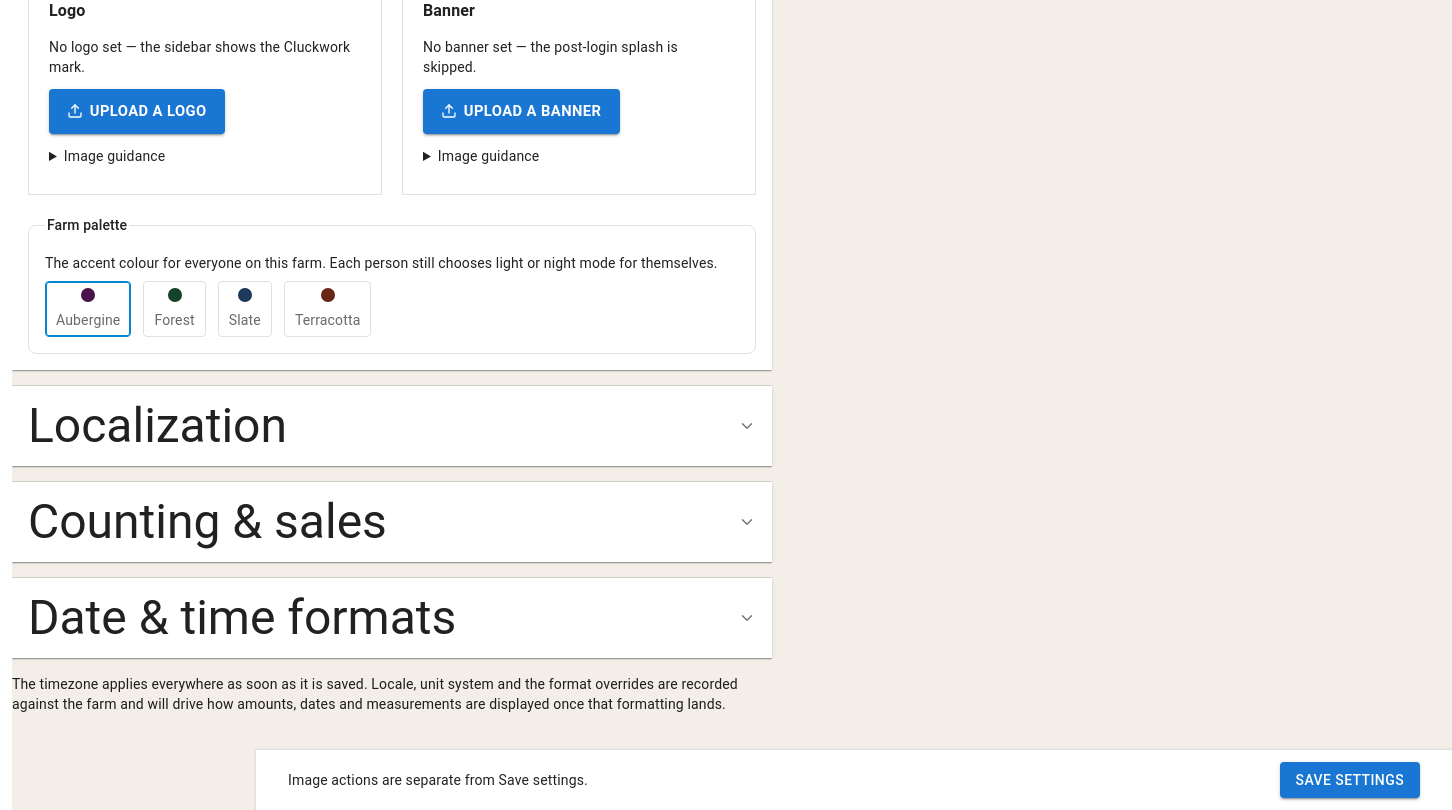
Test: SettingsPage loading › opens the date/time format dropdown on Custom… when the stored value isn't one of the presets (#452)
(page scrolled)
Click the button "Date & time formats": (392, 618) [12,578,772,658]
(page scrolled)
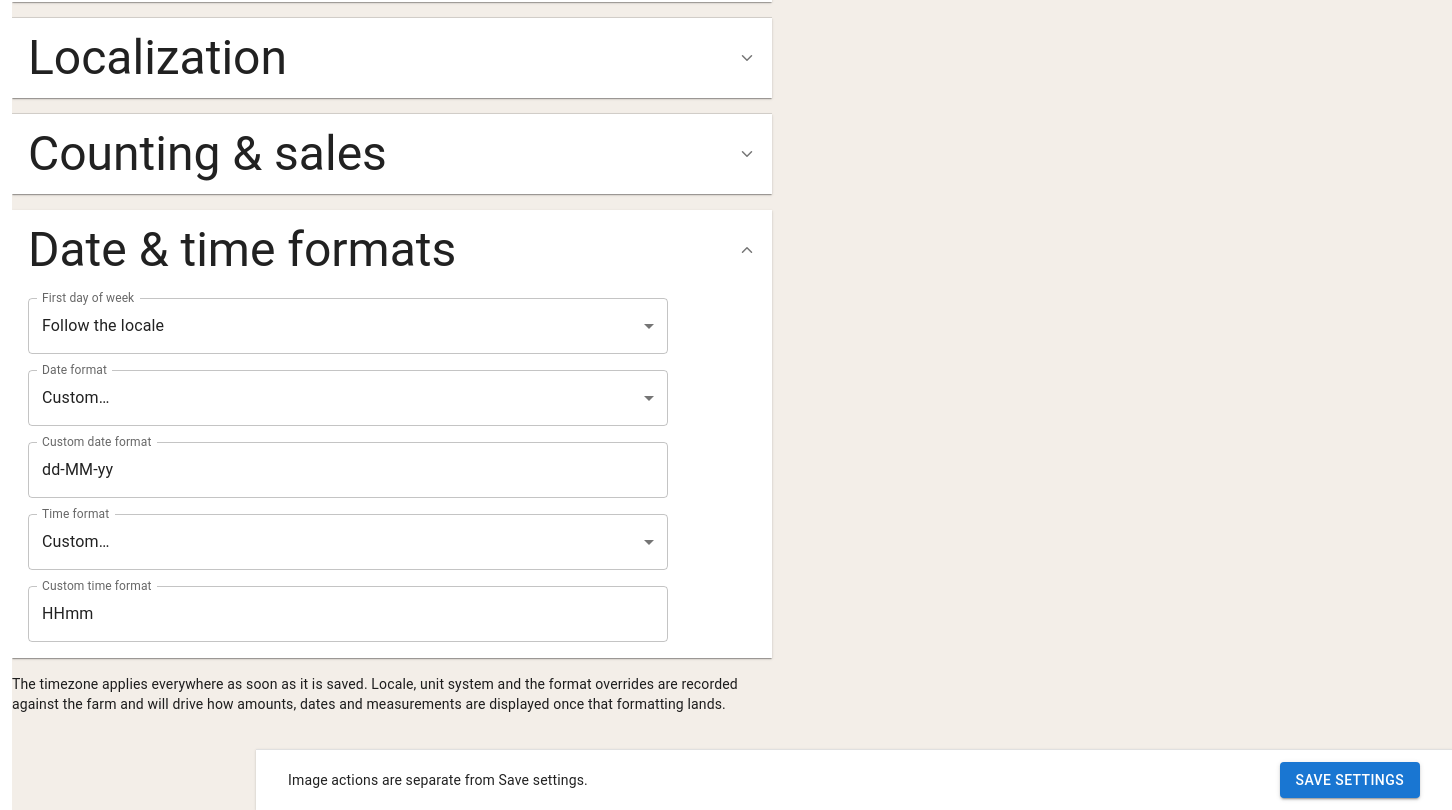
Now the dropdown labelled "Date format" shows "Custom…", box [28,370,668,426]
Now the field labelled "Custom date format" holds "dd-MM-yy", box [28,442,668,498]
Now the dropdown labelled "Time format" shows "Custom…", box [28,514,668,570]
